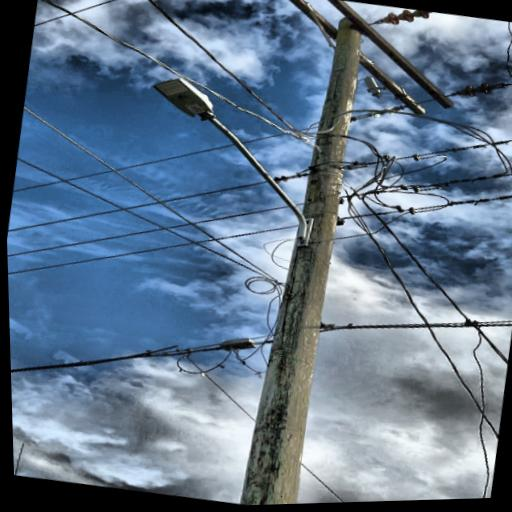pole: (198, 0, 396, 506)
street light: (130, 62, 342, 254)
